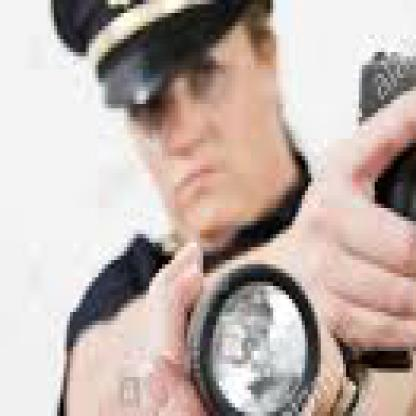gun: (343, 9, 413, 277)
